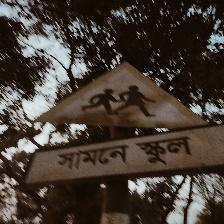School-in-front: (23, 60, 222, 188)
